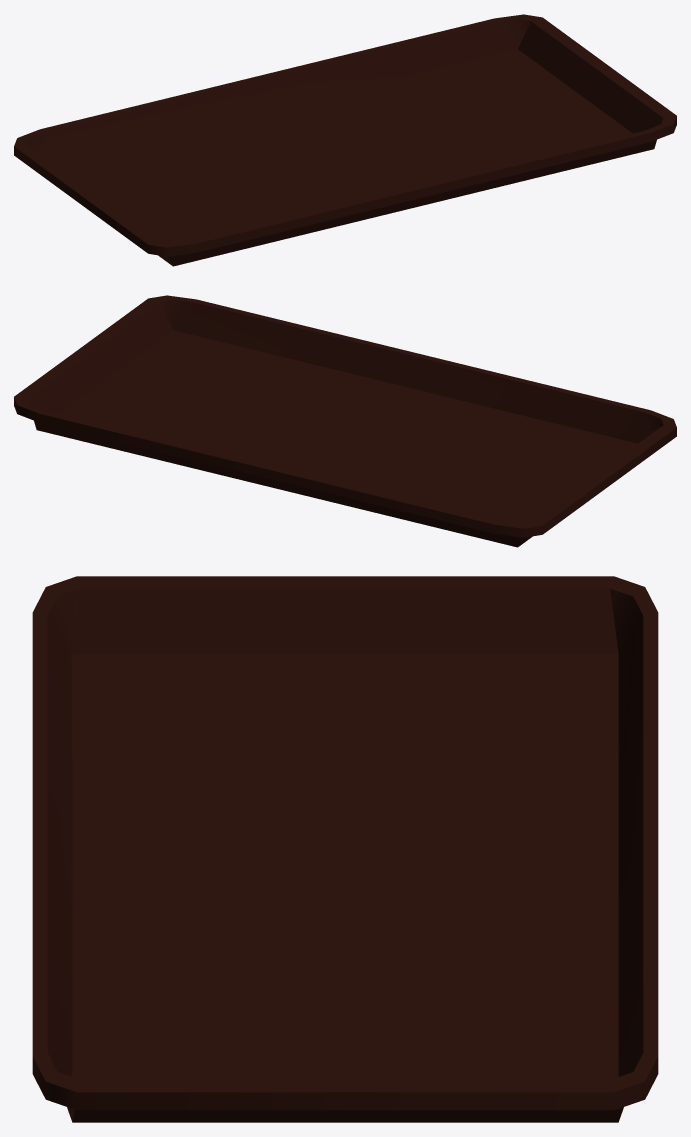
The model's file is khay ban bep.FBX.
3 renders of one model, top to bottom at view 1: azimuth 30°, elevation 25°; view 2: azimuth 150°, elevation 25°; view 3: azimuth 270°, elevation 25°, orthographic. The views are drawn at different scales.
Parts seen in each view (by area): view 1: Cylinder137; view 2: Cylinder137; view 3: Cylinder137.
Boxes of the visible parts, x1,y1,x2,y2 form: Cylinder137: (14,14,676,266); Cylinder137: (14,295,676,547); Cylinder137: (32,576,658,1122).
Size of the model in its own units: 4.21 by 0.204 by 2.16.
